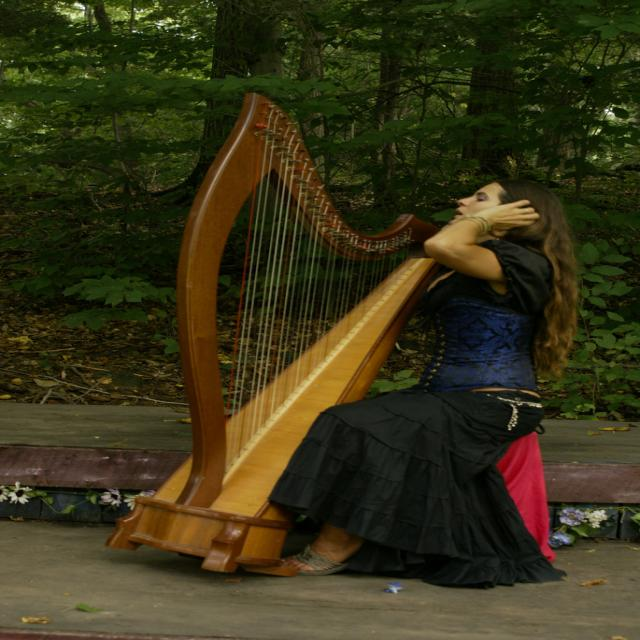harp: (107, 93, 448, 573)
